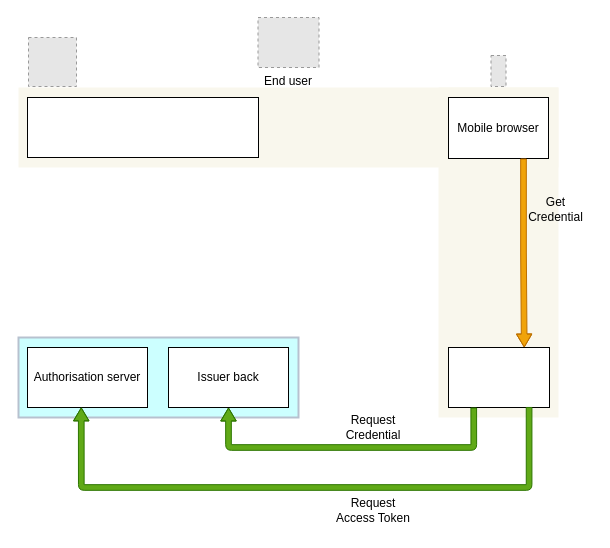
Image size: 610x548. Some labels were removed from this diagram. Grey dashed boxes stand in for pictures. The box of each missing label's shape, as (x1, y1, x2, y2) in pixels:
Laptop browser: (26, 96, 258, 158)
Wallet back: (448, 346, 550, 408)
